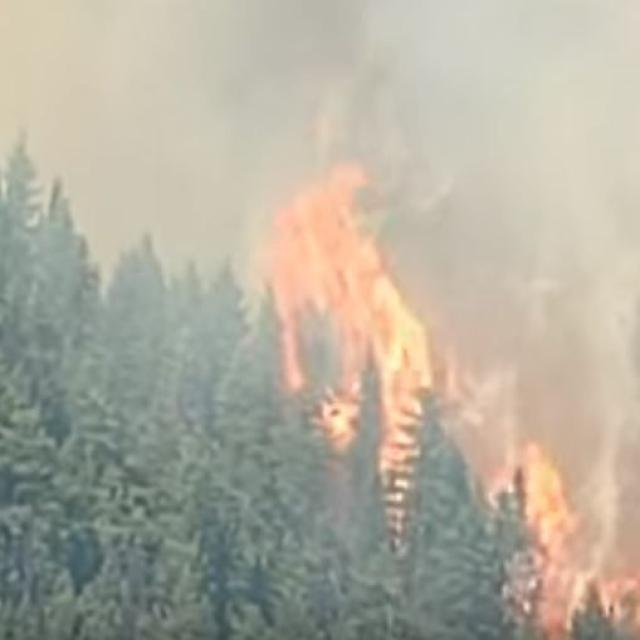Fire: (264, 195, 594, 604)
Smoke: (92, 14, 627, 506)
